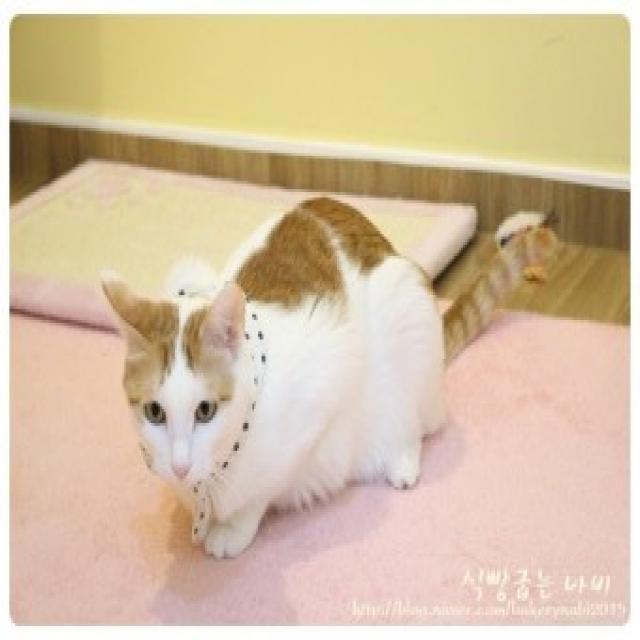cat: (101, 194, 564, 563)
